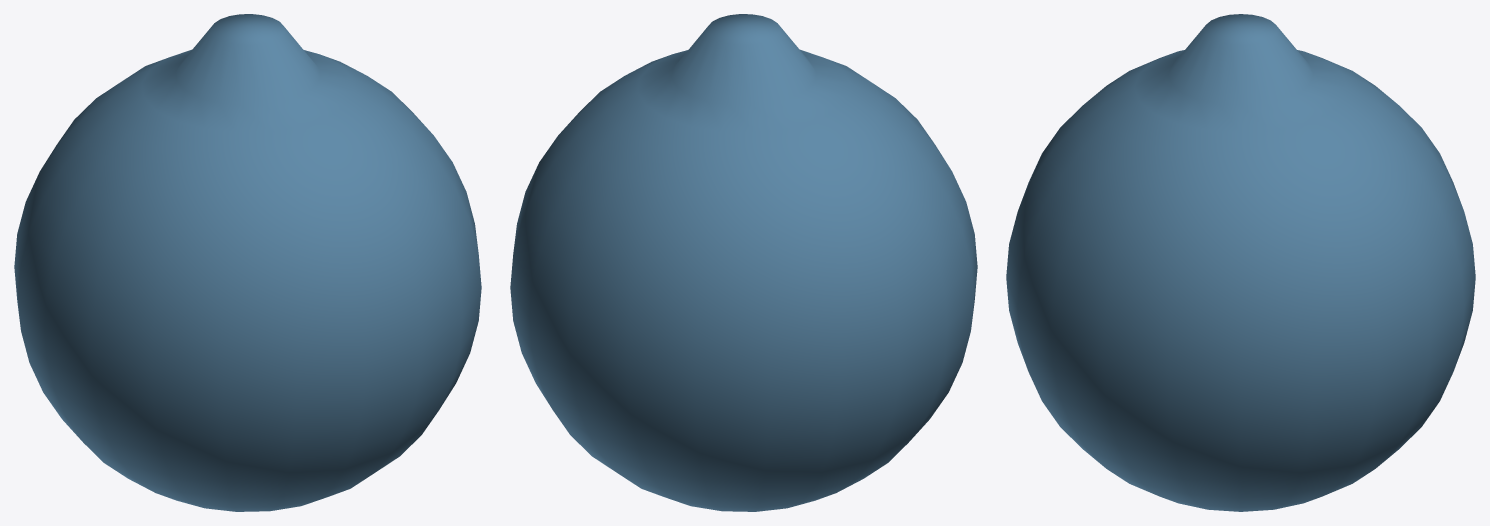
The model's file is PowerEsa.fbx.
The picture shows the model from 3 angles, left to right: view 1: azimuth 30°, elevation 25°; view 2: azimuth 150°, elevation 25°; view 3: azimuth 270°, elevation 25°; orthographic projection.
Parts seen in each view (by area): view 1: pSphere1; view 2: pSphere1; view 3: pSphere1.
Part boxes in pixels (x1,y1,x2,y2): pSphere1: [14, 14, 481, 511]; pSphere1: [510, 14, 977, 511]; pSphere1: [1006, 14, 1475, 511].
Bounding box in the file's own units: 2 × 2.18 × 2.
